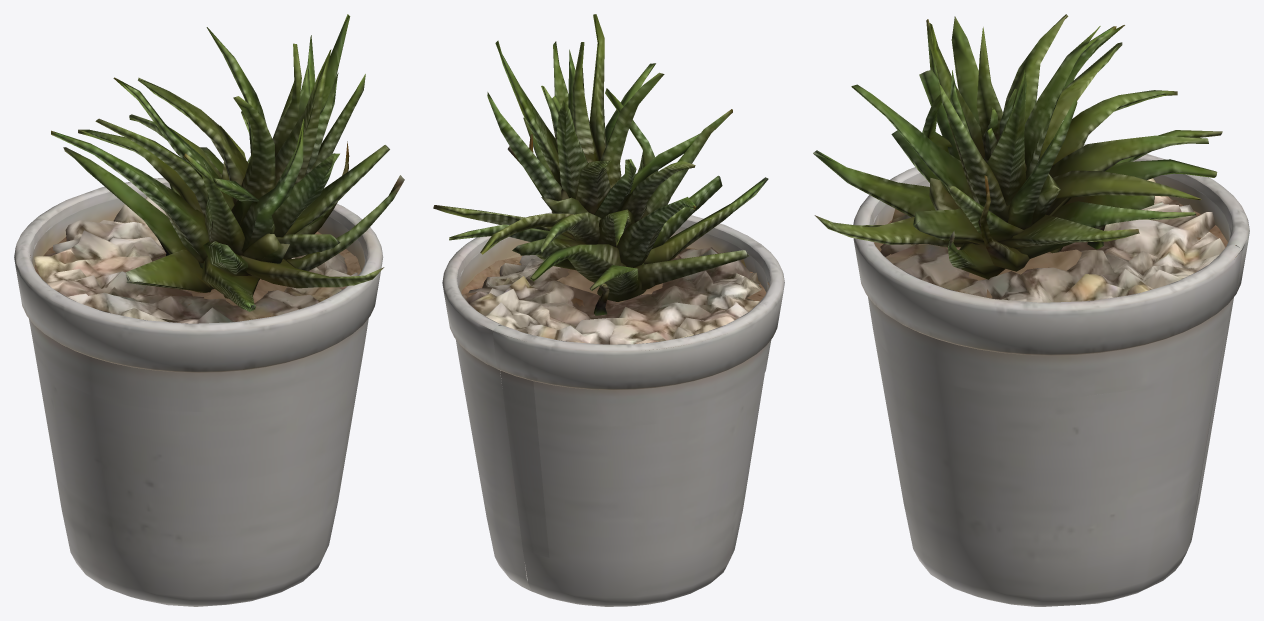
The model's file is potted_plant_04.glb.
3 renders of one model, left to right at view 1: azimuth 30°, elevation 25°; view 2: azimuth 150°, elevation 25°; view 3: azimuth 270°, elevation 25°, orthographic. The views are drawn at different scales.
Parts seen in each view (by area): view 1: potted_plant_04_pot, potted_plant_04_plant, potted_plant_04_ground, potted_plant_04_dirt; view 2: potted_plant_04_pot, potted_plant_04_plant, potted_plant_04_ground, potted_plant_04_dirt; view 3: potted_plant_04_pot, potted_plant_04_plant, potted_plant_04_ground, potted_plant_04_dirt.
Part boxes in pixels (x1,y1,x2,y2): potted_plant_04_pot: (14, 177, 383, 606); potted_plant_04_plant: (51, 14, 404, 311); potted_plant_04_ground: (34, 196, 357, 323); potted_plant_04_dirt: (30, 231, 361, 305); potted_plant_04_pot: (442, 212, 784, 606); potted_plant_04_plant: (433, 14, 768, 315); potted_plant_04_ground: (462, 247, 762, 344); potted_plant_04_dirt: (461, 247, 769, 306); potted_plant_04_pot: (853, 144, 1249, 606); potted_plant_04_plant: (813, 14, 1222, 279); potted_plant_04_ground: (880, 178, 1225, 302); potted_plant_04_dirt: (874, 203, 1236, 298).
Size of the model in its own units: 0.168 by 0.2673 by 0.1846.
1 material, 1 textured.
